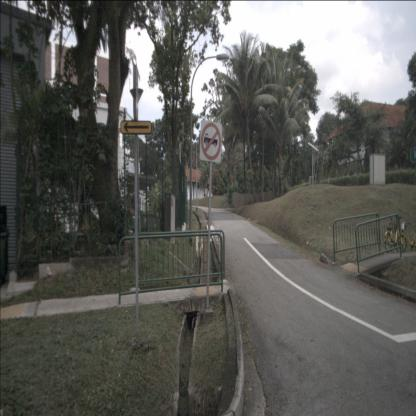vehicle-bicycle: (384, 216, 407, 254), (399, 222, 416, 254)
